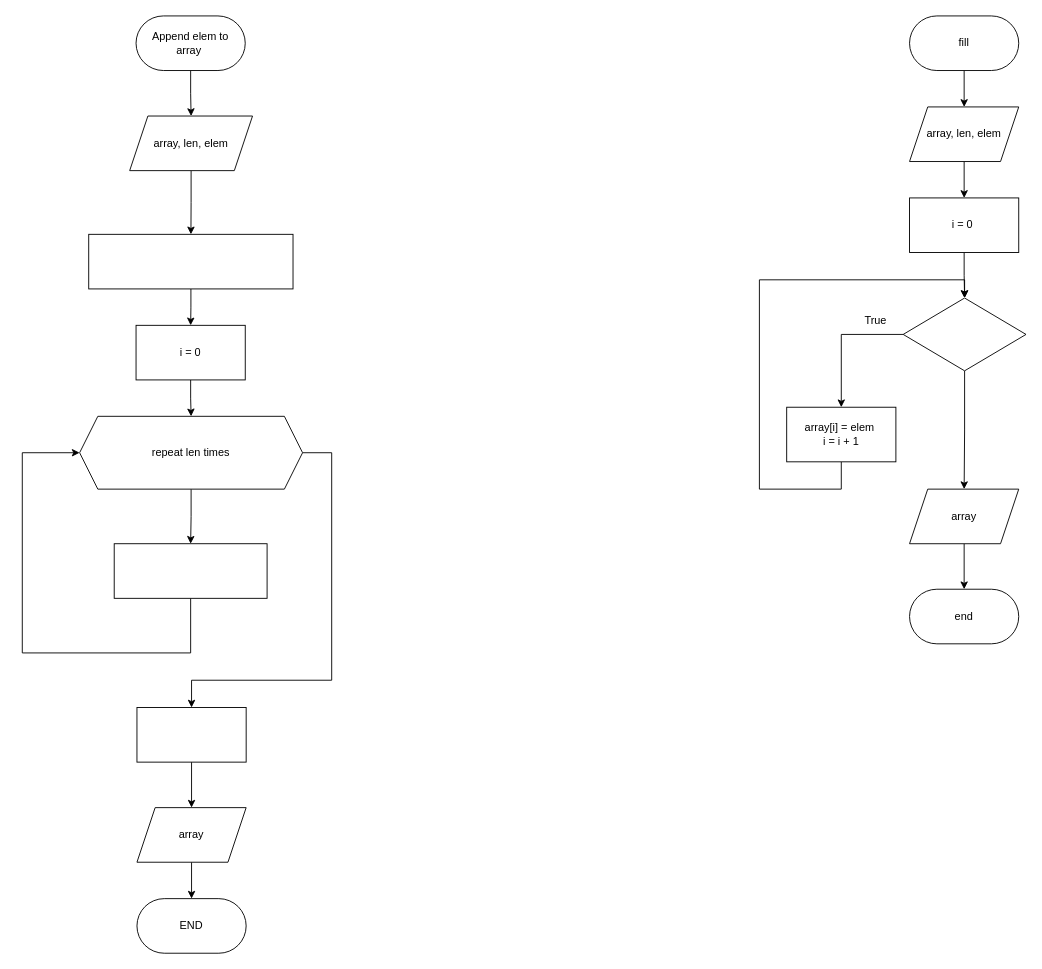
This 1042x969 diagram has some shape labels left out. The centre of each missing label's shape, as x and y in pixels:
"i < len" belongs at [964,334].
"new_array with length (len + 1)" belongs at [190,261].
"new_array[i] = array[i] i = i + 1" belongs at [190,570].
"new_array[i] = elem" belongs at [191,734].
